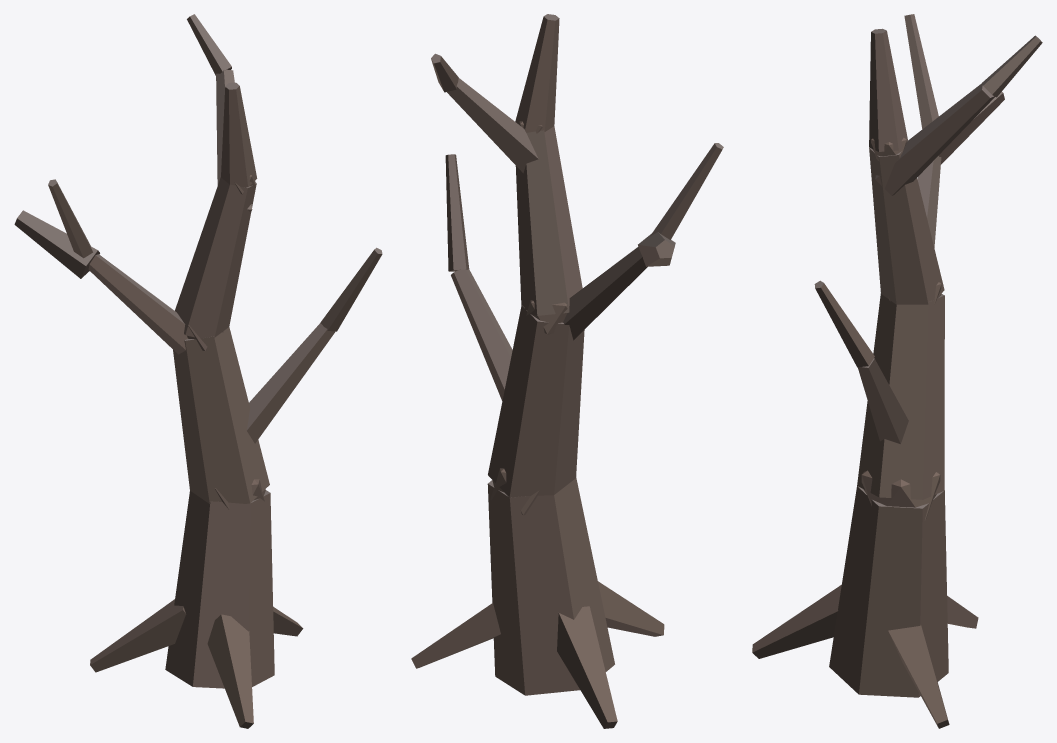
File: tree_dead.glb
The picture shows the model from 3 angles, left to right: view 1: azimuth 30°, elevation 25°; view 2: azimuth 150°, elevation 25°; view 3: azimuth 270°, elevation 25°; orthographic projection. The views are drawn at different scales.
Parts seen in each view (by area): view 1: tree_dead; view 2: tree_dead; view 3: tree_dead.
Boxes of the visible parts, x1,y1,x2,y2 form: tree_dead: (14, 14, 382, 728); tree_dead: (411, 14, 723, 728); tree_dead: (752, 14, 1042, 728).
Size of the model in its own units: 1.85 by 3.65 by 1.45.
